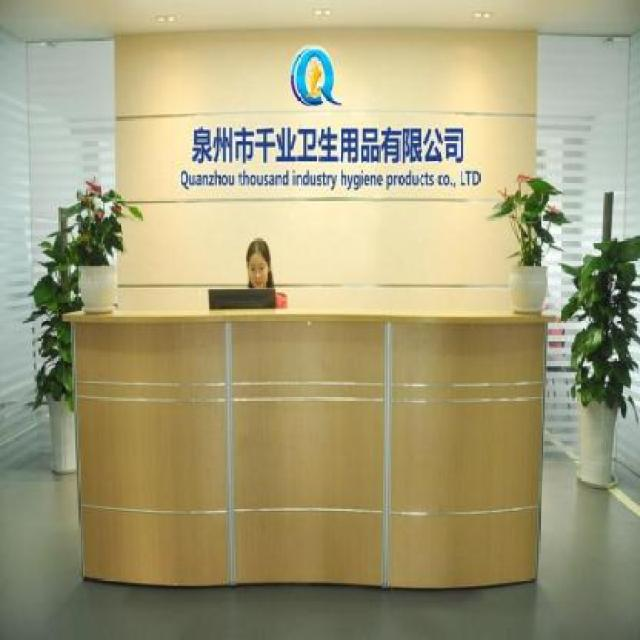frontdesk: (58, 282, 547, 599)
